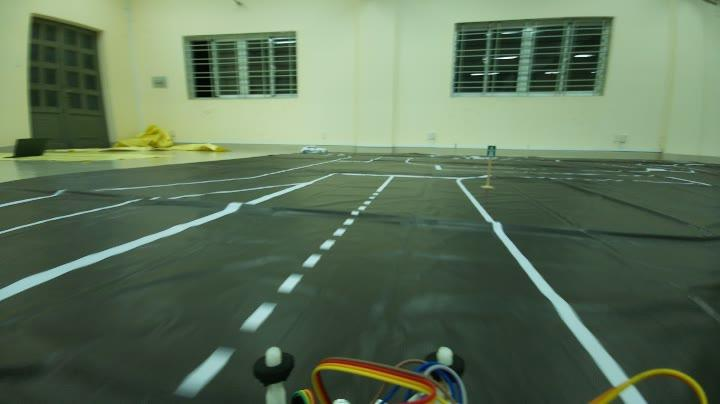highway_entry: (483, 142, 501, 164)
